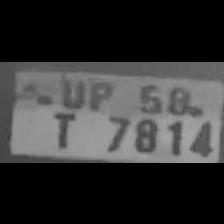1: (159, 114, 186, 154)
4: (184, 114, 214, 156)
5: (132, 77, 164, 113)
7: (97, 111, 130, 153)
8: (130, 114, 160, 152)
P: (83, 74, 117, 112)
T: (45, 108, 81, 150)
U: (54, 73, 86, 107)
